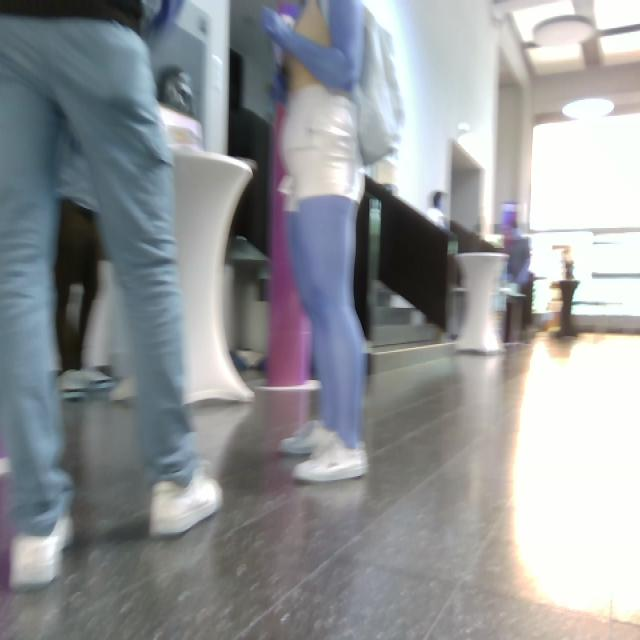backpack: (353, 10, 405, 165)
light bulb: (511, 334, 640, 625), (563, 98, 614, 121)
person: (1, 1, 222, 589), (263, 1, 367, 481), (56, 137, 103, 370), (428, 192, 445, 226)
staircase: (355, 178, 453, 374)
table: (175, 150, 252, 401)
tiled floor: (1, 336, 640, 640)
window: (531, 114, 640, 318)
